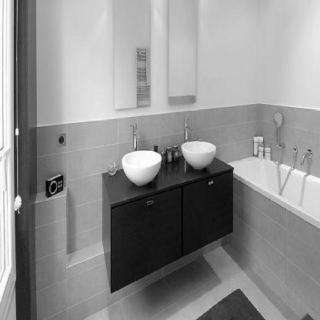other: (127, 148, 157, 176)
